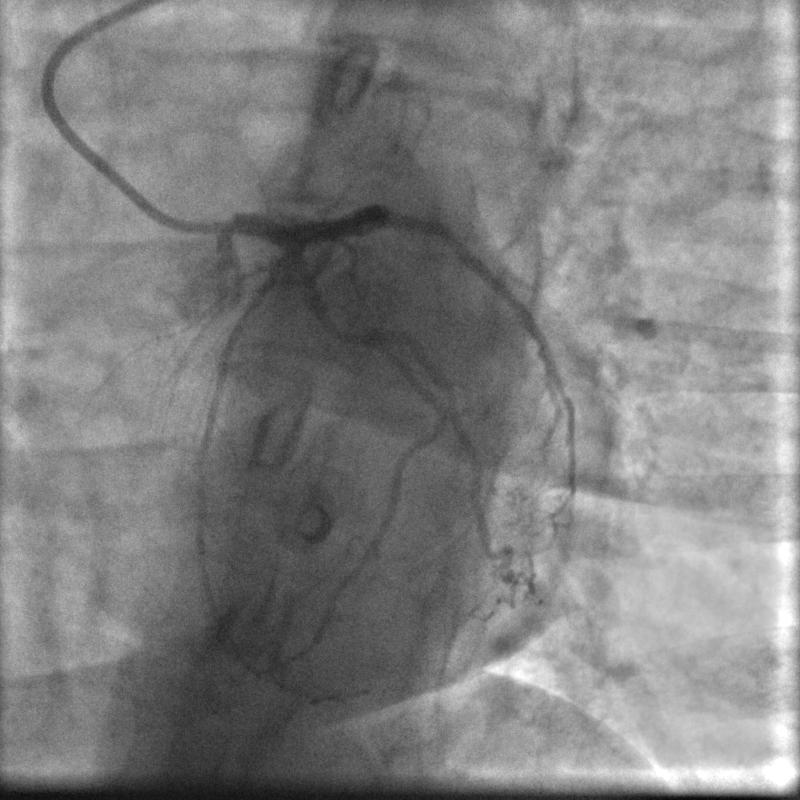Stenosis: (322, 315, 378, 352)
